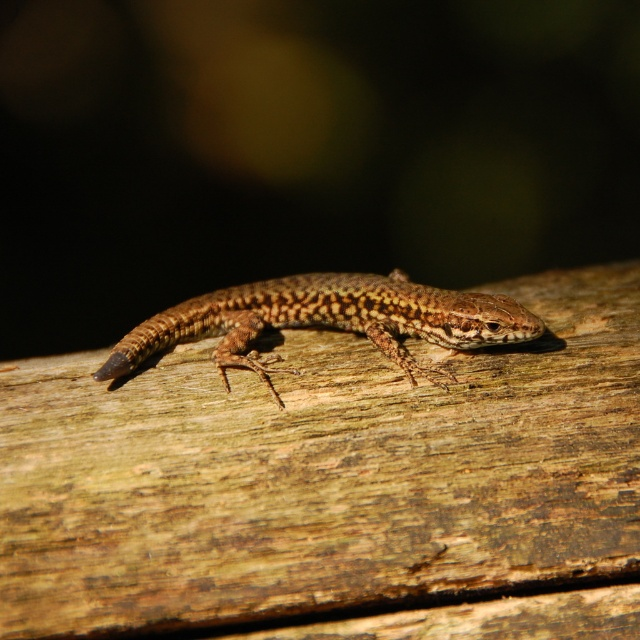Lizard: (85, 268, 571, 420)
